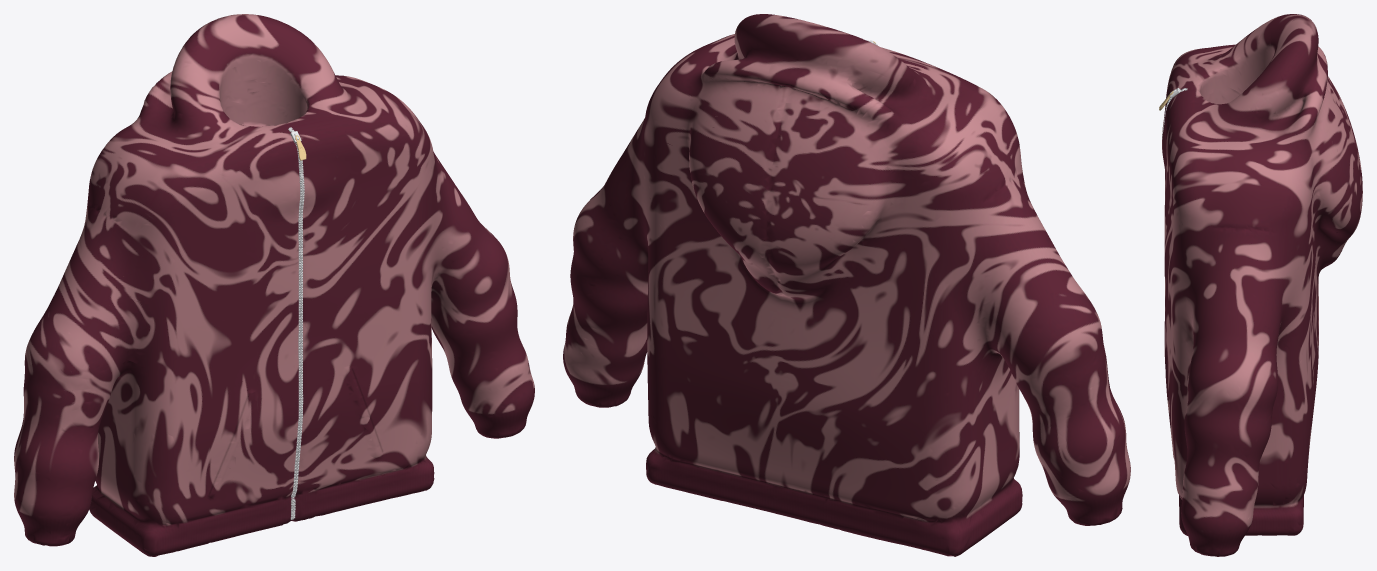
Rendered from ressac-crimson-flow.glb.
3 views of the same model, side by side, from view 1: azimuth 30°, elevation 25°; view 2: azimuth 150°, elevation 25°; view 3: azimuth 270°, elevation 25° (orthographic). The views are drawn at different scales.
Visible parts, largest first — view 1: KYMA Ressac — Crimson Flow (visuel de présentation 3D); view 2: KYMA Ressac — Crimson Flow (visuel de présentation 3D); view 3: KYMA Ressac — Crimson Flow (visuel de présentation 3D).
Part boxes in pixels (box(x1,y1,x2,y2)): KYMA Ressac — Crimson Flow (visuel de présentation 3D): box(14, 14, 534, 556); KYMA Ressac — Crimson Flow (visuel de présentation 3D): box(563, 14, 1130, 556); KYMA Ressac — Crimson Flow (visuel de présentation 3D): box(1159, 14, 1362, 556).
Bounding box in the file's own units: 1.04 × 0.8959 × 0.3715.
Materials: 3 (1 with a texture image).
